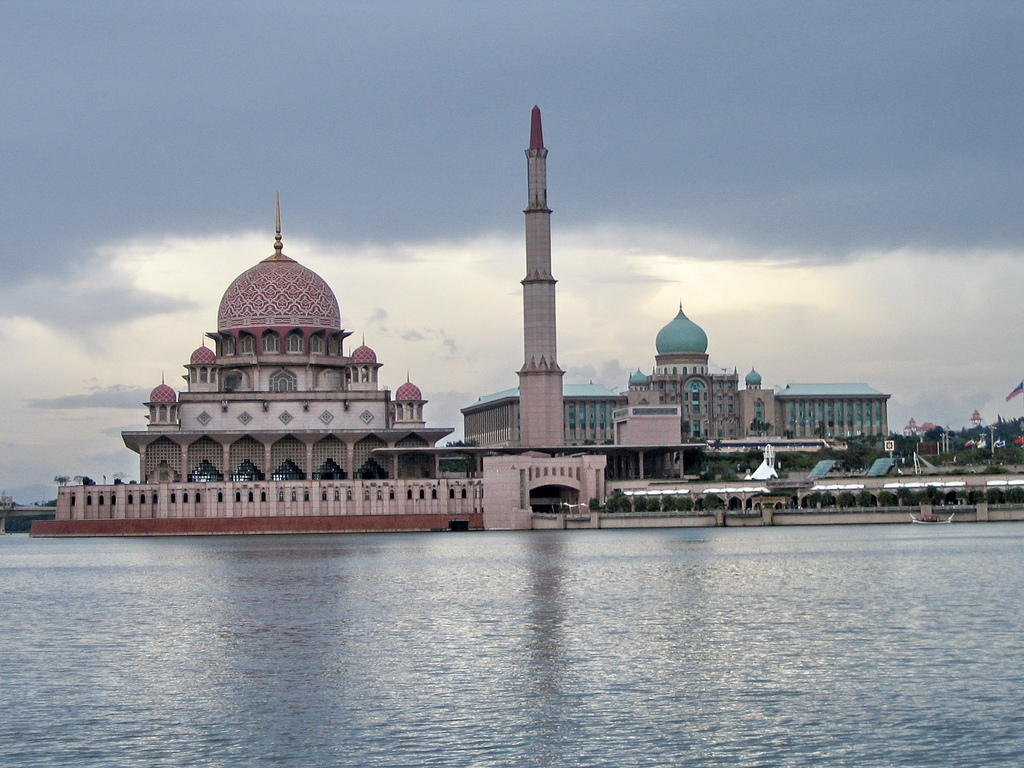Mosque: (85, 87, 896, 509)
